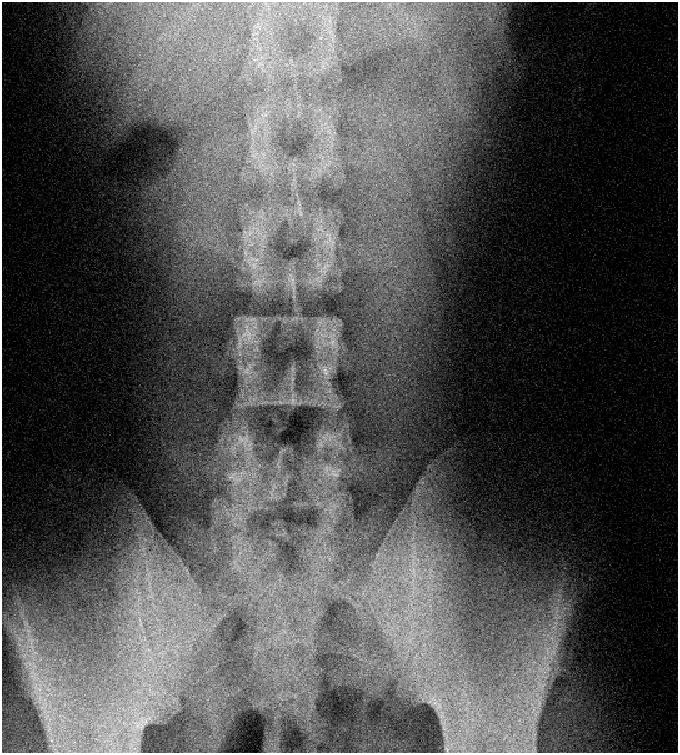lumbar scoliosis: (205, 108, 362, 591)
